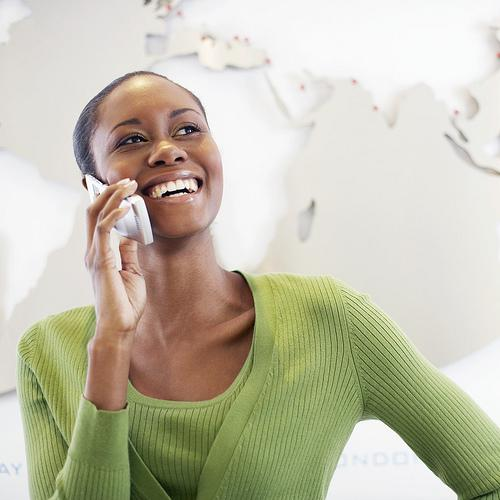person: (17, 70, 499, 500)
